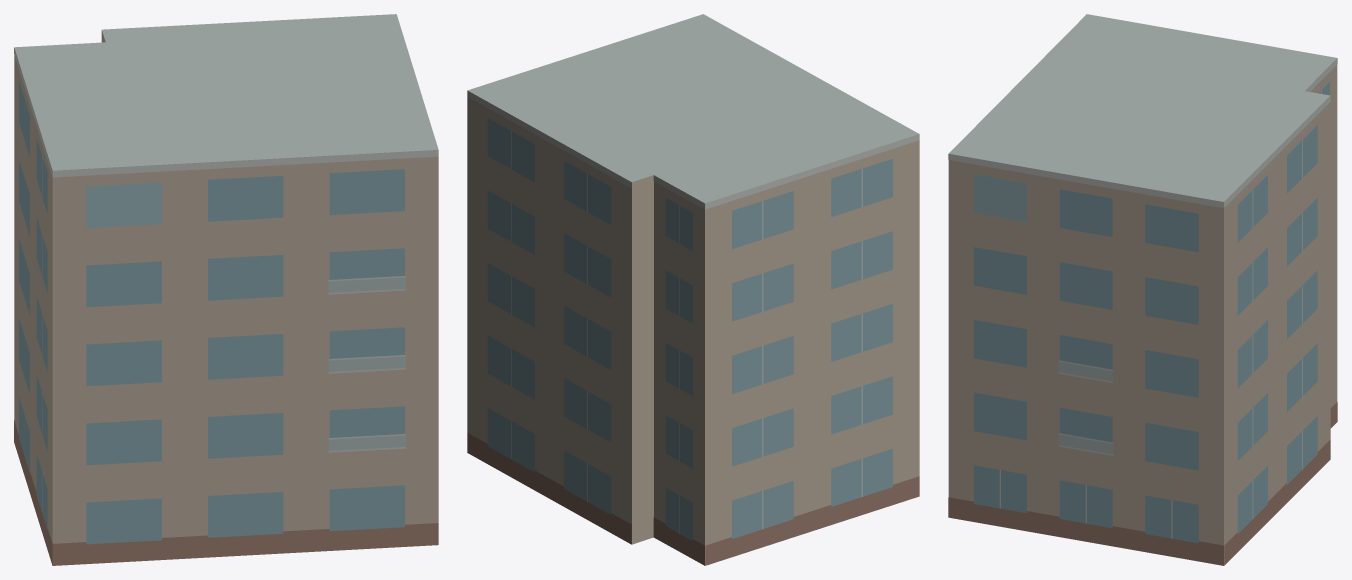
The model's file is survey-upis-32503809.glb.
3 views of the same model, side by side, from view 1: azimuth 30°, elevation 25°; view 2: azimuth 150°, elevation 25°; view 3: azimuth 270°, elevation 25° (orthographic). The views are drawn at different scales.
Parts seen in each view (by area): view 1: survey-upis-32503809.tmp; view 2: survey-upis-32503809.tmp; view 3: survey-upis-32503809.tmp.
Boxes of the visible parts, bbox=[...] form: survey-upis-32503809.tmp: bbox=[14, 14, 438, 565]; survey-upis-32503809.tmp: bbox=[467, 14, 919, 565]; survey-upis-32503809.tmp: bbox=[948, 14, 1337, 565].
Size of the model in its own units: 15.75 by 14.2 by 13.77.
